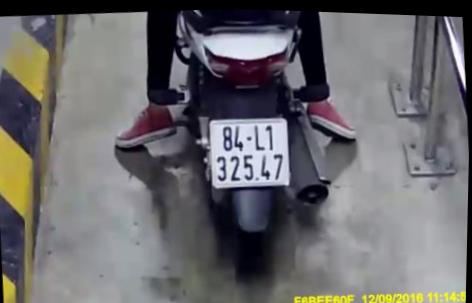LP: (207, 112, 292, 190)
